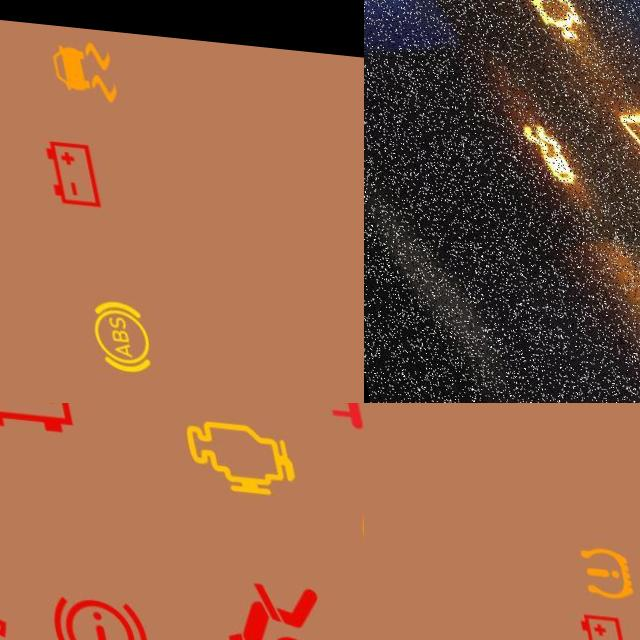High Engine Coolant Temperature: (271, 403, 364, 442), (612, 411, 640, 484)
